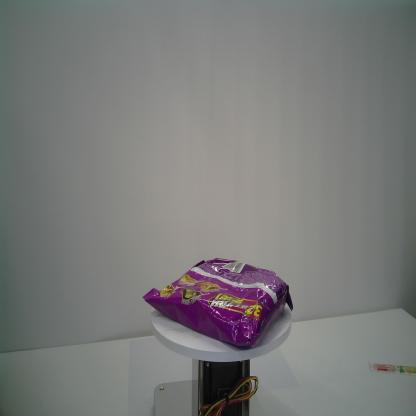Instant Noodles: (143, 258, 294, 347)
